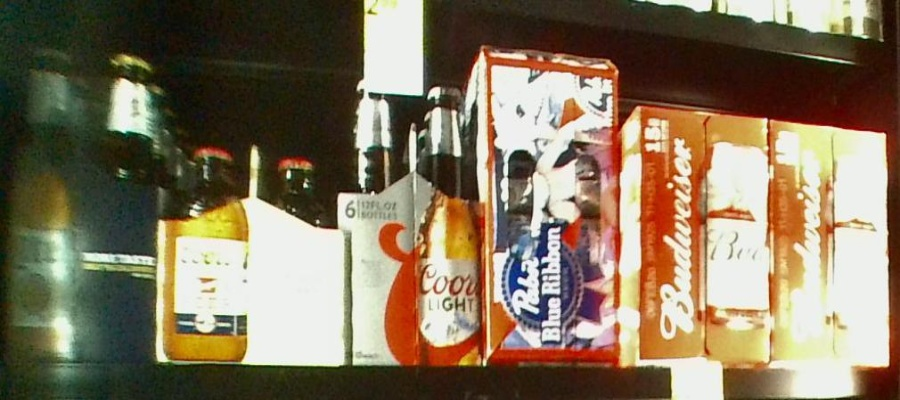bottle: (4, 46, 155, 365), (479, 40, 619, 366), (156, 144, 348, 365), (619, 102, 766, 366), (347, 78, 480, 364), (772, 118, 892, 371)
